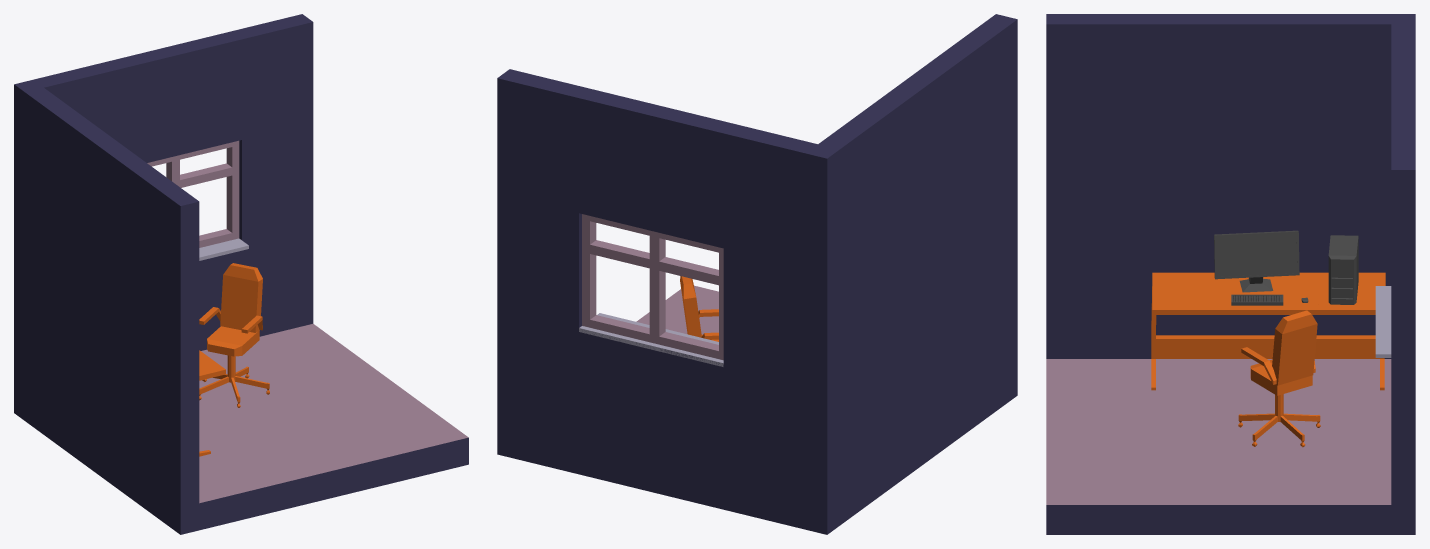
File: Diorama.fbx
3 views of the same model, side by side, from view 1: azimuth 30°, elevation 25°; view 2: azimuth 150°, elevation 25°; view 3: azimuth 270°, elevation 25° (orthographic). The views are drawn at different scales.
Visible parts, largest first — view 1: Diorama, Floor, Chair, Window, WindowSill, Table; view 2: Diorama, Window, Floor, WindowSill, Chair; view 3: Diorama, Floor, Table, Chair, Minitor, Computer, WindowSill, Keyboard.
Boxes of the visible parts, left/top/right/bottom form: Diorama: left=14, top=14, right=468, bottom=534; Floor: left=199, top=323, right=468, bottom=503; Chair: left=199, top=263, right=269, bottom=407; Window: left=147, top=140, right=239, bottom=247; WindowSill: left=199, top=238, right=248, bottom=260; Table: left=199, top=350, right=225, bottom=456; Diorama: left=497, top=14, right=1017, bottom=534; Window: left=582, top=214, right=723, bottom=360; Floor: left=636, top=285, right=718, bottom=334; WindowSill: left=579, top=313, right=723, bottom=366; Chair: left=680, top=276, right=718, bottom=341; Diorama: left=1046, top=14, right=1415, bottom=534; Floor: left=1046, top=359, right=1391, bottom=504; Table: left=1151, top=272, right=1385, bottom=390; Chair: left=1238, top=310, right=1320, bottom=447; Minitor: left=1214, top=230, right=1299, bottom=292; Computer: left=1328, top=235, right=1358, bottom=304; WindowSill: left=1375, top=286, right=1391, bottom=357; Keyboard: left=1231, top=294, right=1283, bottom=305.
Bounding box in the file's own units: 30 × 32.7 × 30.
